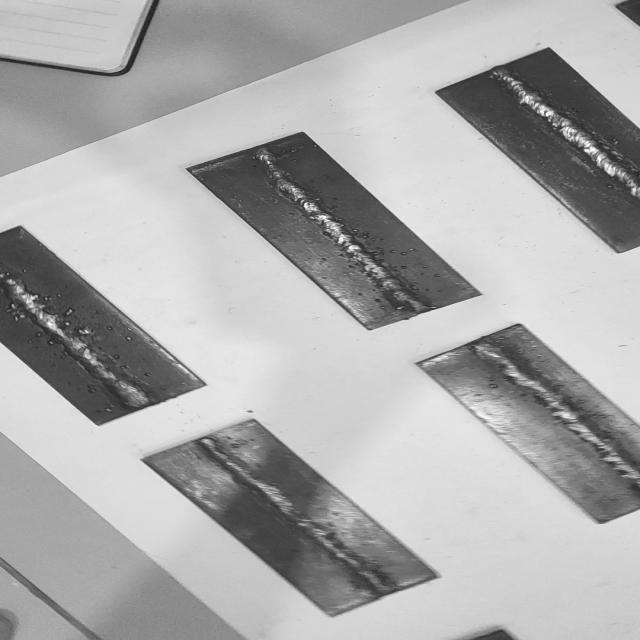Defect: (30, 319, 107, 349)
Welding Line: (192, 432, 398, 596), (246, 147, 434, 316), (0, 266, 161, 414), (488, 63, 640, 207)
Workpiece: (176, 128, 484, 334), (135, 418, 442, 620), (418, 319, 640, 526), (0, 223, 211, 432), (436, 45, 640, 256)
